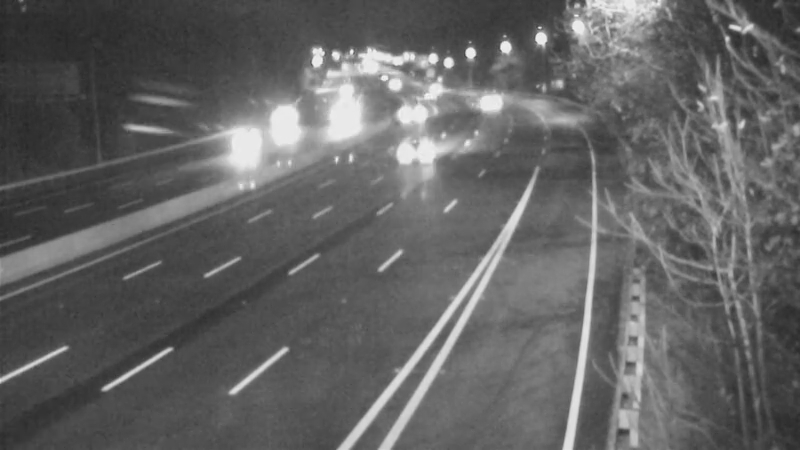vehicle: (199, 116, 279, 196), (362, 59, 412, 109), (412, 60, 462, 110), (406, 70, 456, 120), (457, 77, 507, 127), (398, 86, 448, 136), (389, 122, 439, 172), (261, 92, 311, 142), (325, 91, 375, 141)
